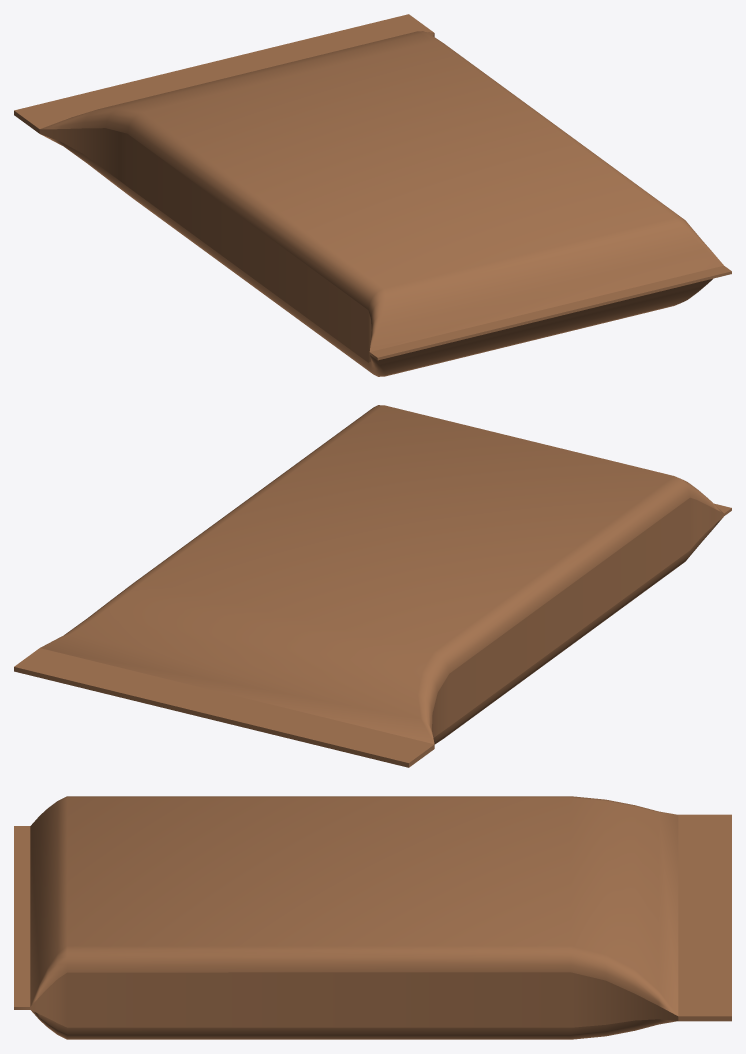
Rendered from Triangle Bandage.fbx.
The picture shows the model from 3 angles, top to bottom: view 1: azimuth 30°, elevation 25°; view 2: azimuth 150°, elevation 25°; view 3: azimuth 270°, elevation 25°; orthographic projection. The views are drawn at different scales.
Visible parts, largest first — view 1: plastic.001; view 2: plastic.001; view 3: plastic.001.
Part boxes in pixels (x1,y1,x2,y2): plastic.001: (14, 14, 731, 376); plastic.001: (14, 405, 731, 767); plastic.001: (14, 796, 731, 1039).
Bounding box in the file's own units: 0.0621 × 0.0132 × 0.0935.
